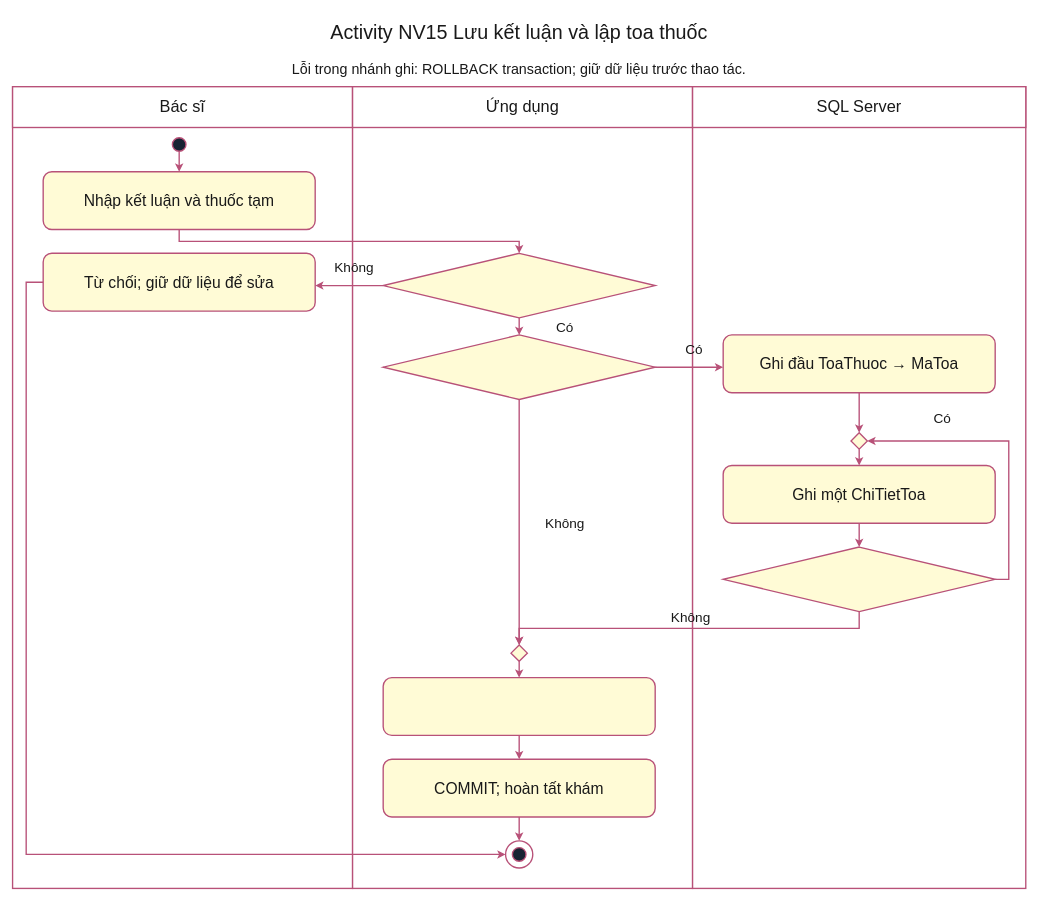
This 1038x900 diagram has some shape labels left out. Here are the shapes that lost their labels. From the top down, the box of each, then its label:
(382, 252, 656, 318): Đủ kết quả XN kết luận thuốc hợp lệ?
(382, 334, 656, 400): Có dòng thuốc?
(722, 546, 996, 612): Còn dòng thuốc?
(382, 677, 656, 736): Ghi kết luận PhieuKham → Chờ thanh toán
